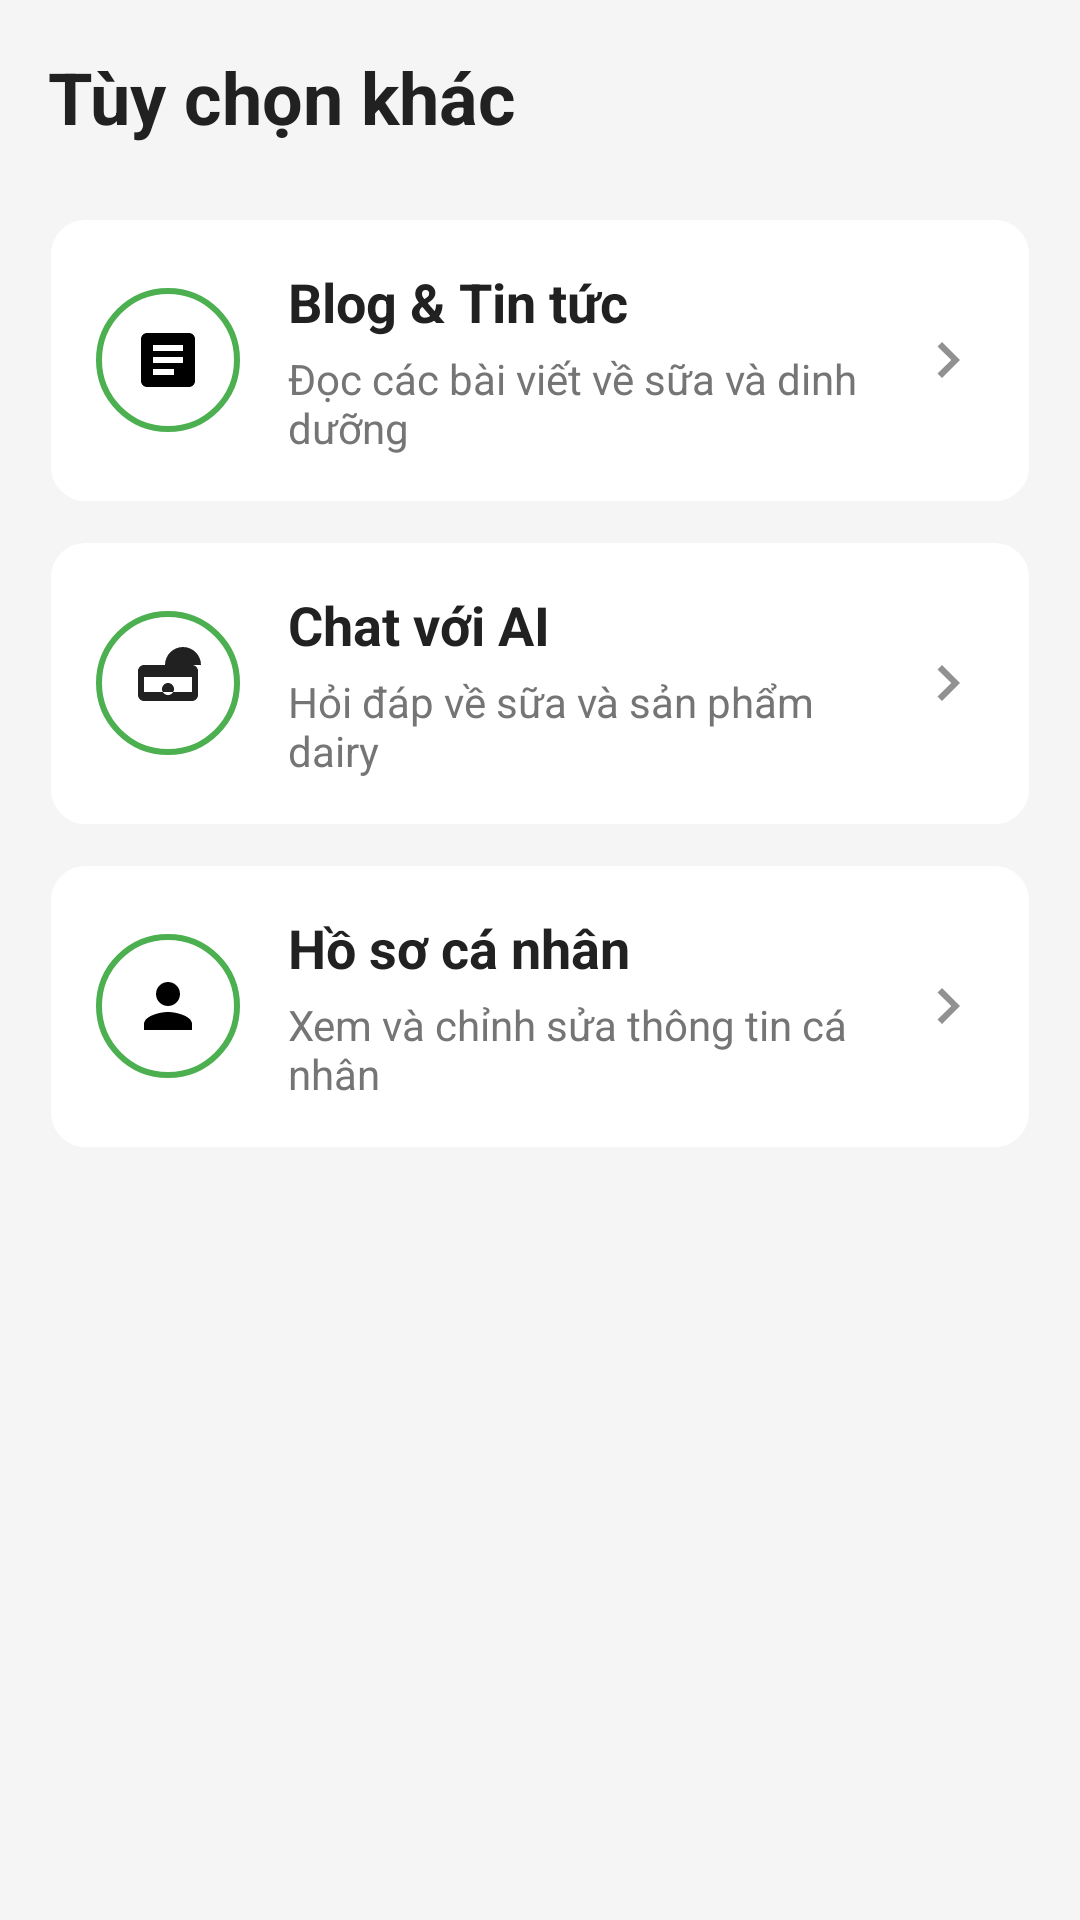

Point at icon controls on the screen. Image size 1080*1920, points as point (x, y).
Arrow: point (948, 360), point (948, 683), point (948, 1006)
Profile: point (168, 1006)
